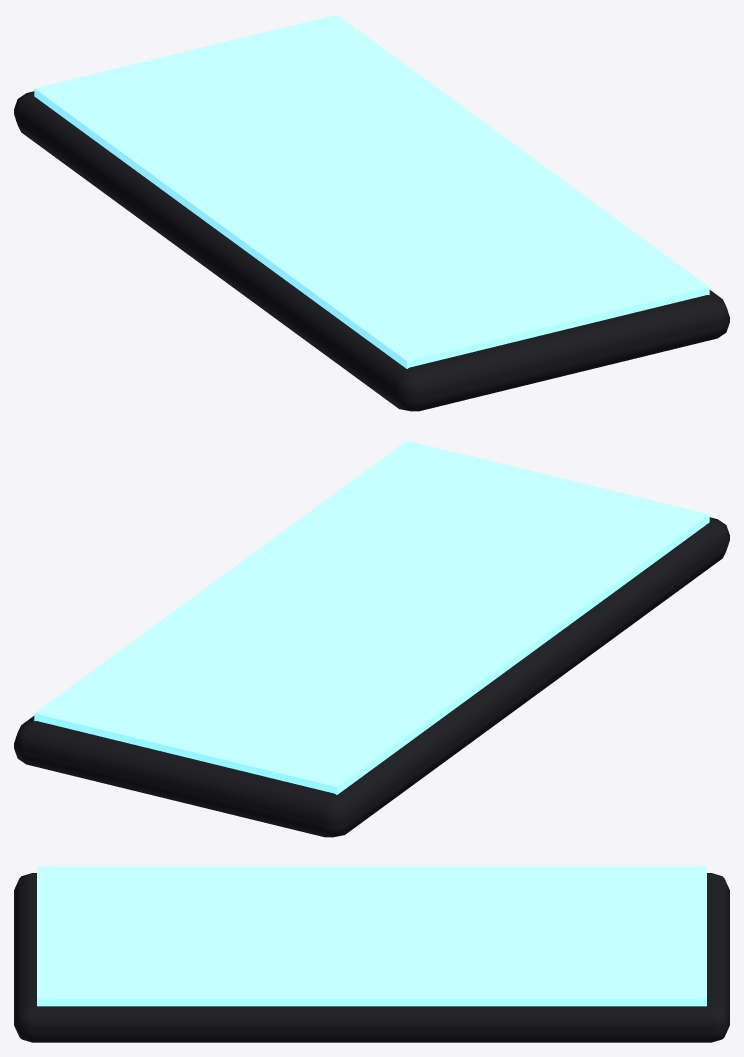
Rendered from phone.glb.
The picture shows the model from 3 angles, top to bottom: view 1: azimuth 30°, elevation 25°; view 2: azimuth 150°, elevation 25°; view 3: azimuth 270°, elevation 25°; orthographic projection. The views are drawn at different scales.
Parts seen in each view (by area): view 1: screen, main; view 2: screen, main; view 3: screen, main.
Part boxes in pixels (<box>): screen: <box>34,14,709,368</box>; main: <box>14,91,729,411</box>; screen: <box>34,440,709,794</box>; main: <box>14,517,729,837</box>; screen: <box>37,866,706,1006</box>; main: <box>14,873,729,1042</box>.
Bounding box in the file's own units: 0.075 × 0.0105 × 0.155.
